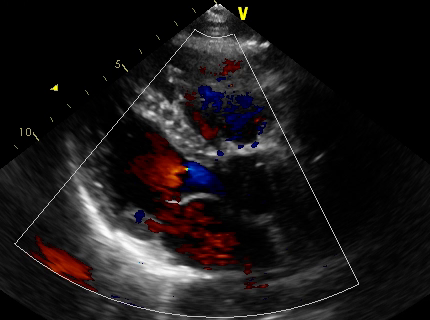AR: (132, 131, 203, 204)
